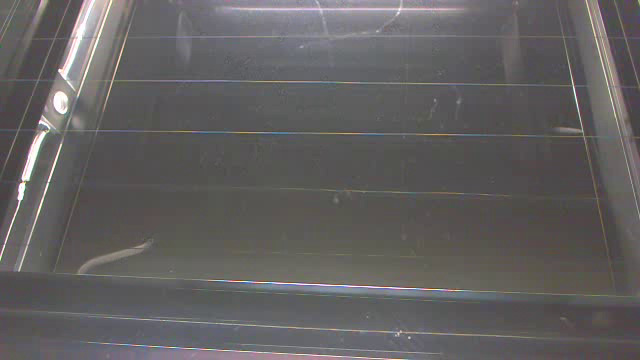alpha: (75, 245, 146, 275)
